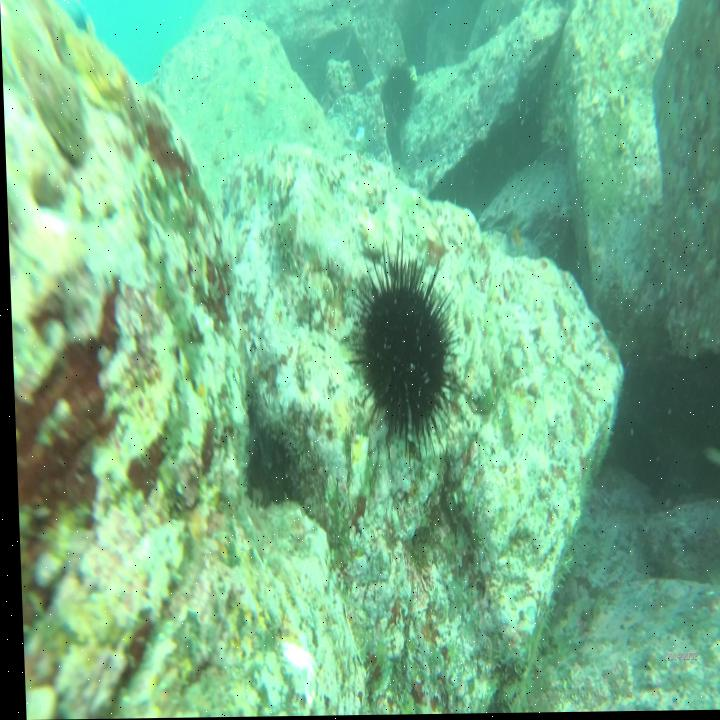echinus: (334, 224, 462, 464), (377, 57, 419, 130)
